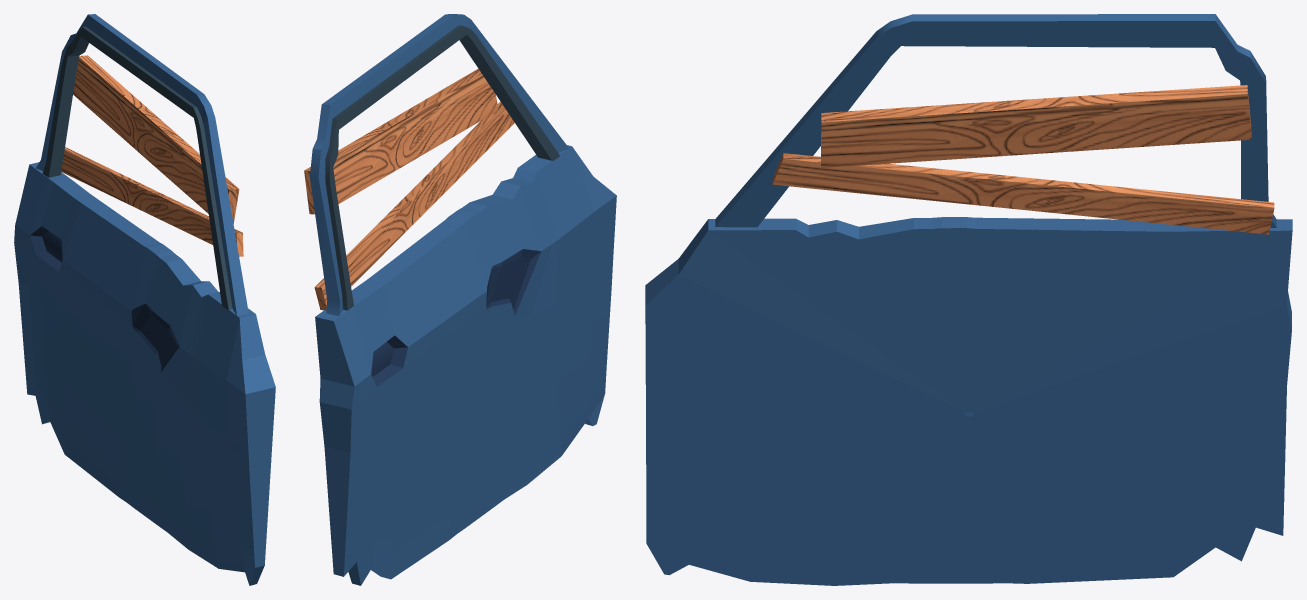
The model's file is Test_ruchka1.fbx.
The picture shows the model from 3 angles, left to right: view 1: azimuth 30°, elevation 25°; view 2: azimuth 150°, elevation 25°; view 3: azimuth 270°, elevation 25°; orthographic projection. The views are drawn at different scales.
Visible parts, largest first — view 1: front_door_t1; view 2: front_door_t1; view 3: front_door_t1.
Part boxes in pixels (x1,y1,x2,y2): front_door_t1: (14,14,275,585); front_door_t1: (304,14,616,585); front_door_t1: (645,14,1292,585).
Size of the model in its own units: 11.77 by 81.21 by 80.41.
